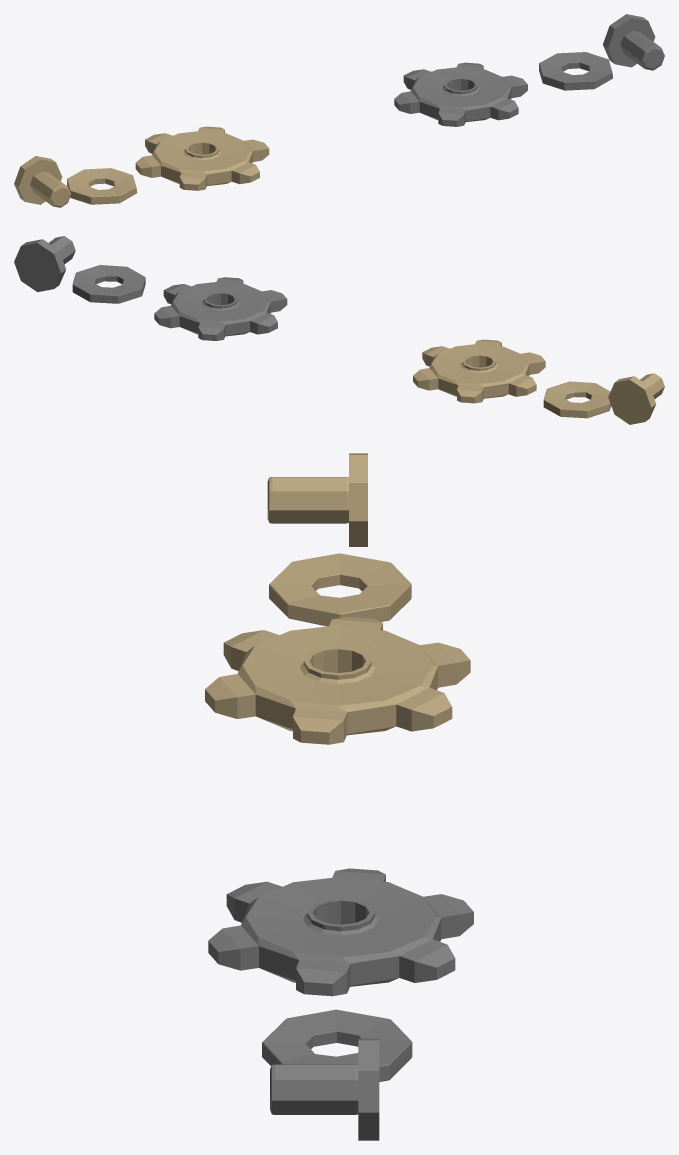
Rendered from piezas.fbx.
The picture shows the model from 3 angles, top to bottom: view 1: azimuth 30°, elevation 25°; view 2: azimuth 150°, elevation 25°; view 3: azimuth 270°, elevation 25°; orthographic projection. The views are drawn at different scales.
Visible parts, largest first — view 1: engrane_viejo, engrane_nuevo, tornillo_viejo, tuerca_vieja, tornillo_nuevo, tuerca_nueva; view 2: engrane_viejo, engrane_nuevo, tornillo_viejo, tuerca_vieja, tornillo_nuevo, tuerca_nueva; view 3: engrane_viejo, engrane_nuevo, tuerca_nueva, tornillo_viejo, tuerca_vieja, tornillo_nuevo.
Boxes of the visible parts, bbox=[...] form: engrane_viejo: bbox=[135, 126, 269, 190]; engrane_nuevo: bbox=[394, 62, 527, 126]; tornillo_viejo: bbox=[603, 14, 664, 70]; tuerca_vieja: bbox=[539, 52, 612, 90]; tornillo_nuevo: bbox=[14, 156, 70, 207]; tuerca_nueva: bbox=[67, 168, 137, 204]; engrane_viejo: bbox=[413, 339, 545, 403]; engrane_nuevo: bbox=[154, 277, 287, 340]; tornillo_viejo: bbox=[14, 236, 75, 292]; tuerca_vieja: bbox=[72, 265, 145, 303]; tornillo_nuevo: bbox=[608, 373, 664, 424]; tuerca_nueva: bbox=[543, 381, 611, 418]; engrane_viejo: bbox=[205, 617, 470, 744]; engrane_nuevo: bbox=[208, 868, 473, 996]; tuerca_nueva: bbox=[269, 553, 411, 626]; tornillo_viejo: bbox=[270, 1038, 379, 1140]; tuerca_vieja: bbox=[262, 1009, 412, 1081]; tornillo_nuevo: bbox=[267, 453, 367, 546].
Size of the model in its own units: 84.14 by 6.88 by 15.44.
